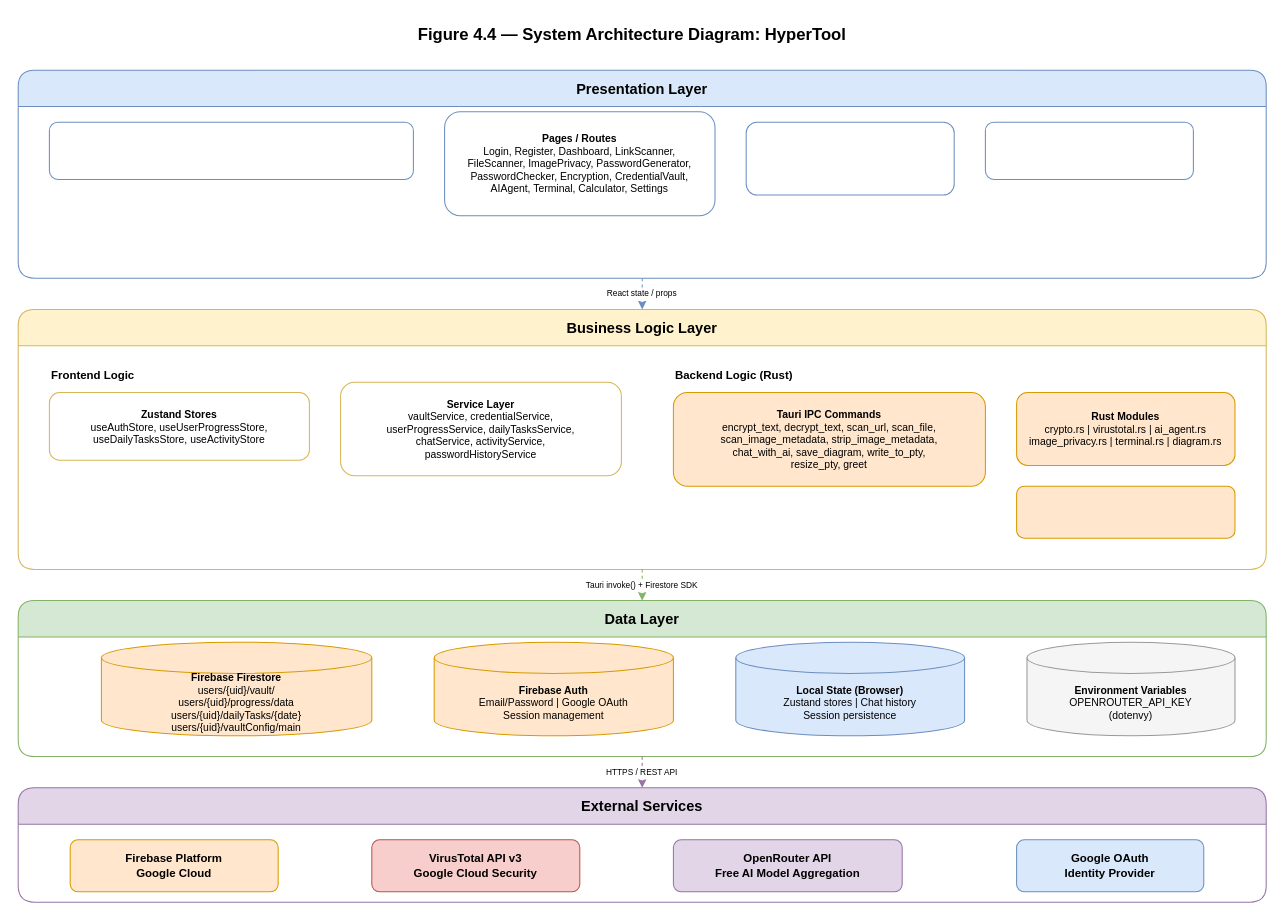
Image size: 1284x920. Some labels were removed from this diagram. The shapes that lost their labels are listed below. From the top down, each one's centre as x and y in pixels, then its label:
(230,150): Desktop Application (Tauri WebView) React 18 + TypeScript + Tailwind CSS
(849,158): Layout Components DashboardLayout, TitleBar, ThemeProvider
(1088,150): Custom Title Bar Tauri window controls
(1125,511): Tauri Plugins dialog | opener | google-auth
